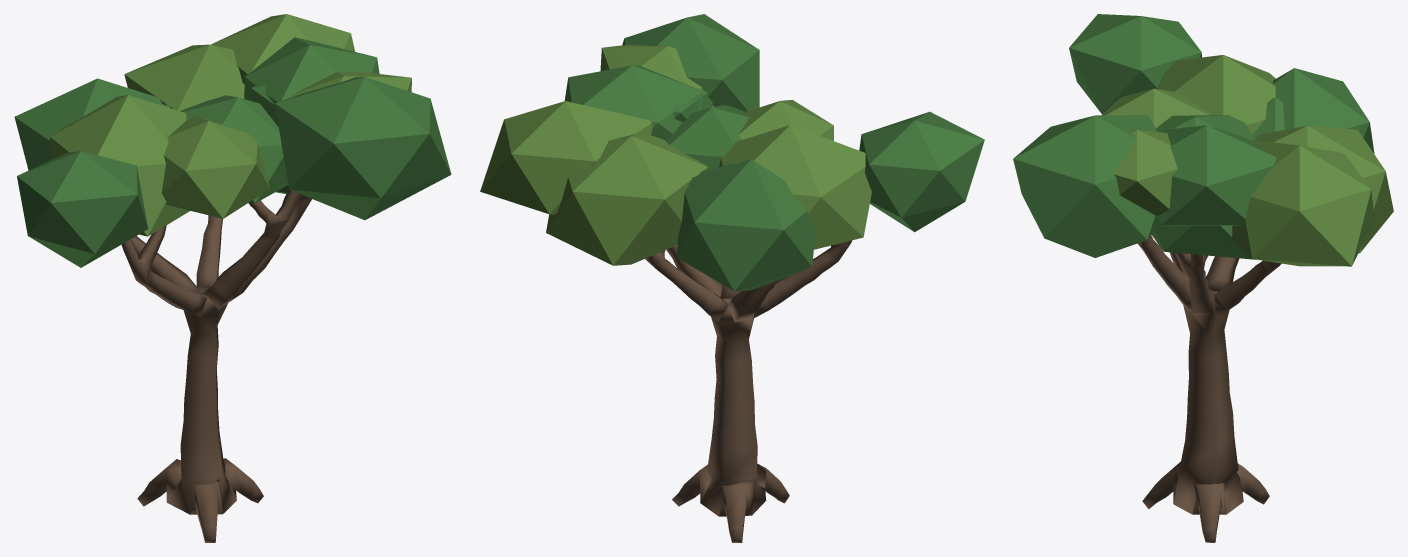
Rendered from prop_tree_lite.glb.
The picture shows the model from 3 angles, left to right: view 1: azimuth 30°, elevation 25°; view 2: azimuth 150°, elevation 25°; view 3: azimuth 270°, elevation 25°; orthographic projection. The views are drawn at different scales.
Parts seen in each view (by area): view 1: lite_leaves0, lite_leaves1, lite_bark; view 2: lite_leaves0, lite_leaves1, lite_bark; view 3: lite_leaves0, lite_leaves1, lite_bark.
Boxes of the visible parts, box(x1,y1,x2,y2) form: lite_leaves0: box(14, 37, 451, 267); lite_leaves1: box(50, 14, 411, 236); lite_bark: box(121, 189, 311, 542); lite_leaves0: box(564, 14, 984, 291); lite_leaves1: box(480, 44, 871, 265); lite_bark: box(645, 240, 851, 542); lite_leaves0: box(1013, 14, 1374, 259); lite_leaves1: box(1101, 55, 1393, 266); lite_bark: box(1137, 235, 1281, 542).
Size of the model in its own units: 8.03 by 8.69 by 6.61.
